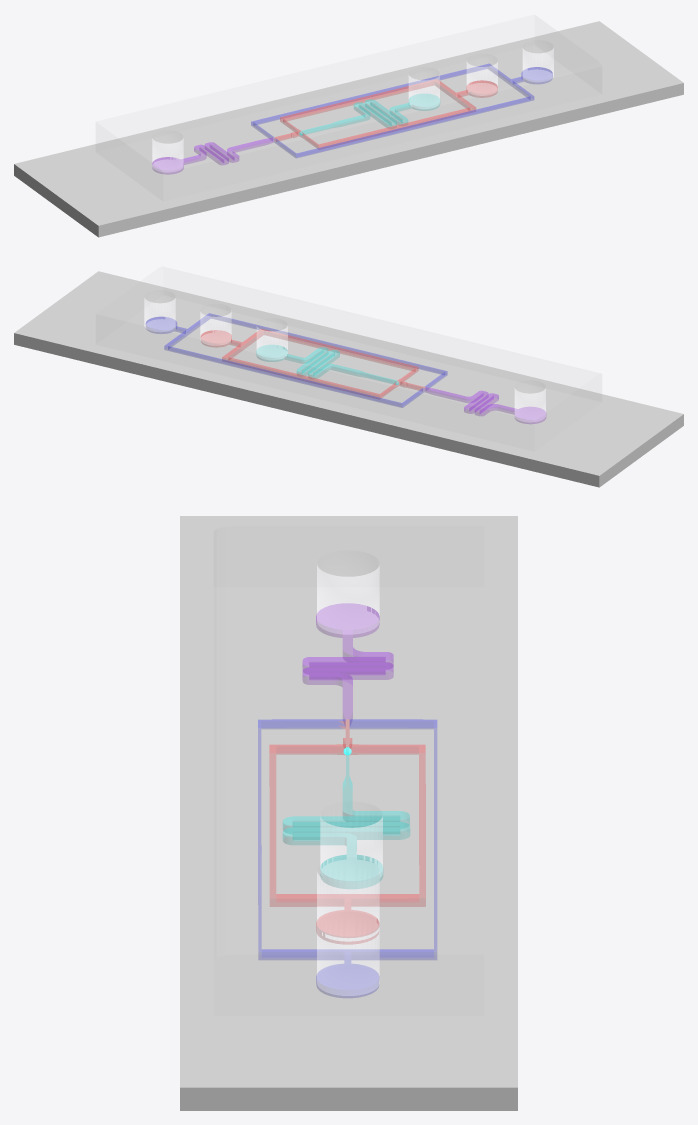
3 renders of one model, top to bottom at view 1: azimuth 30°, elevation 25°; view 2: azimuth 150°, elevation 25°; view 3: azimuth 270°, elevation 25°, orthographic. The views are drawn at different scales.
Parts seen in each view (by area): view 1: Cube.001, ChipDesign v2, Cube; view 2: Cube.001, ChipDesign v2, Cube; view 3: Cube.001, ChipDesign v2, Cube.
Part boxes in pixels (x1,y1,x2,y2): Cube.001: (14, 21, 683, 237); ChipDesign v2: (152, 63, 552, 174); Cube: (152, 48, 553, 171); Cube.001: (14, 271, 683, 487); ChipDesign v2: (146, 313, 545, 423); Cube: (144, 298, 545, 422); Cube.001: (180, 516, 517, 1110); ChipDesign v2: (258, 604, 436, 997); Cube: (317, 564, 382, 995).
Size of the model in its own units: 20 by 1.38 by 5.
